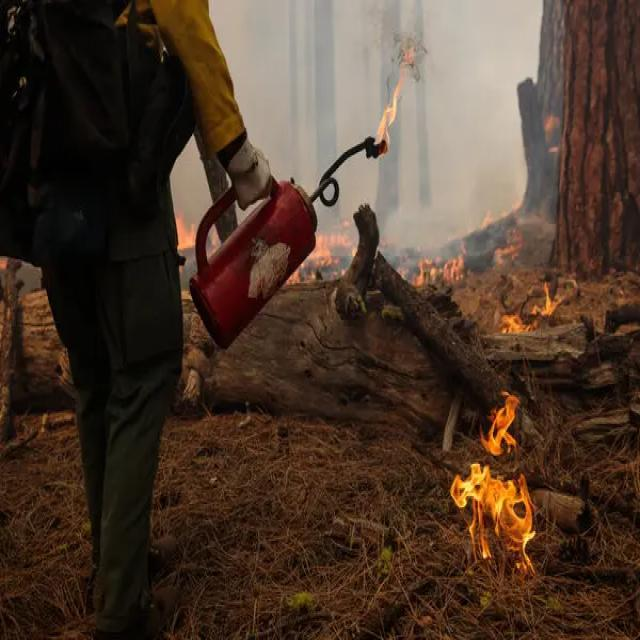Fire: (441, 223, 596, 352), (442, 378, 544, 568), (369, 64, 408, 152)
